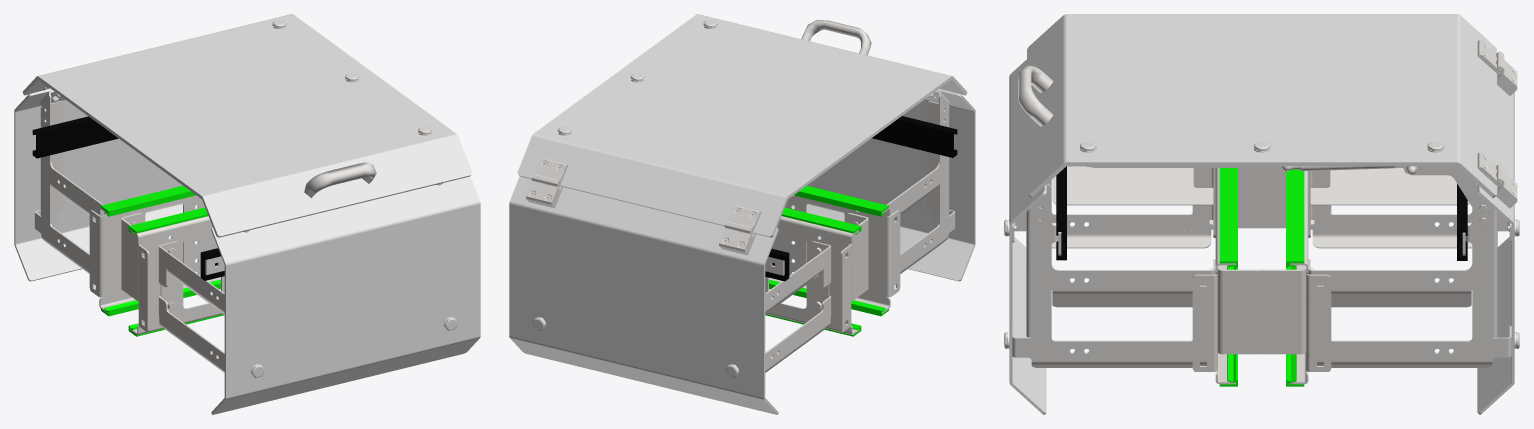
3 renders of one model, left to right at view 1: azimuth 30°, elevation 25°; view 2: azimuth 150°, elevation 25°; view 3: azimuth 270°, elevation 25°, orthographic. The views are drawn at different scales.
Visible parts, largest first — view 1: glass, base; view 2: glass, base; view 3: glass, base.
Part boxes in pixels (x1,y1,x2,y2): glass: [14, 14, 480, 414]; base: [14, 20, 480, 399]; glass: [509, 14, 975, 414]; base: [509, 19, 975, 413]; glass: [1009, 14, 1514, 414]; base: [1004, 40, 1519, 414].
Size of the model in its own units: 0.5 by 0.4103 by 0.726.
1 material, 1 textured.
